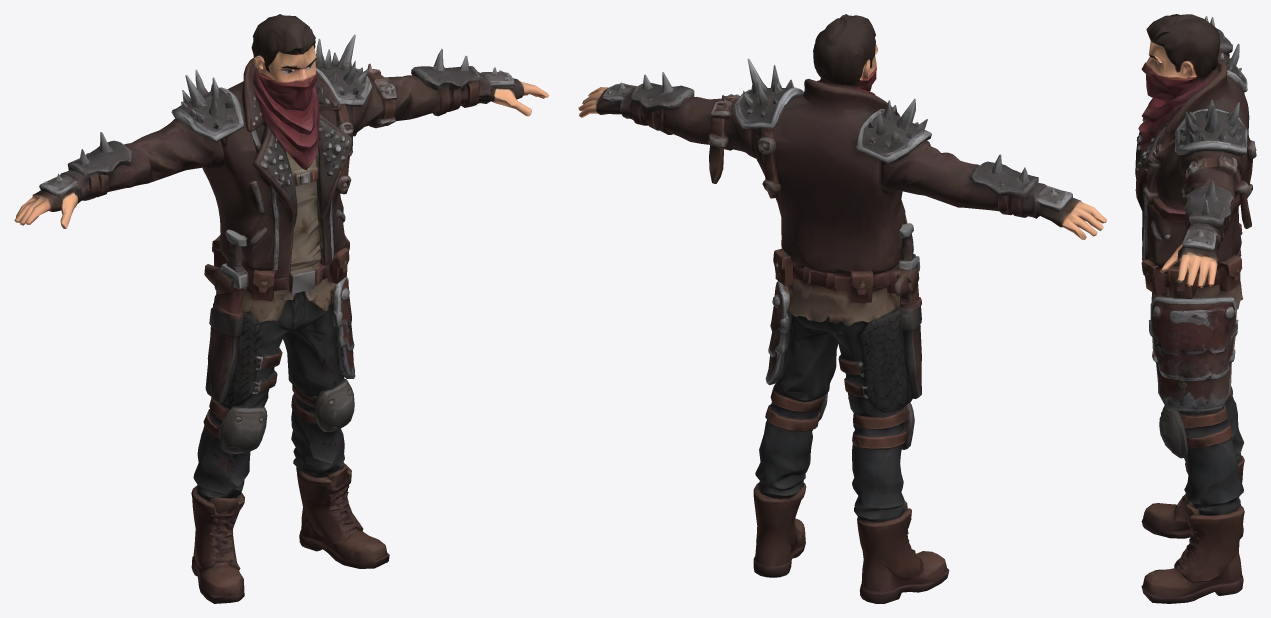
File: raider_human_maroder_idle.glb
The picture shows the model from 3 angles, left to right: view 1: azimuth 30°, elevation 25°; view 2: azimuth 150°, elevation 25°; view 3: azimuth 270°, elevation 25°; orthographic projection.
Visible parts, largest first — view 1: tripo_node_51ff2f87-f6af-4ebe-a4e5-8a94bebbbcbc; view 2: tripo_node_51ff2f87-f6af-4ebe-a4e5-8a94bebbbcbc; view 3: tripo_node_51ff2f87-f6af-4ebe-a4e5-8a94bebbbcbc.
Part boxes in pixels (left/top/right/bottom): tripo_node_51ff2f87-f6af-4ebe-a4e5-8a94bebbbcbc: left=14, top=14, right=549, bottom=603; tripo_node_51ff2f87-f6af-4ebe-a4e5-8a94bebbbcbc: left=578, top=14, right=1106, bottom=603; tripo_node_51ff2f87-f6af-4ebe-a4e5-8a94bebbbcbc: left=1135, top=14, right=1256, bottom=603.
Bounding box in the file's own units: 1.78 × 1.8 × 0.3616.
Materials: 1 (1 with a texture image).
